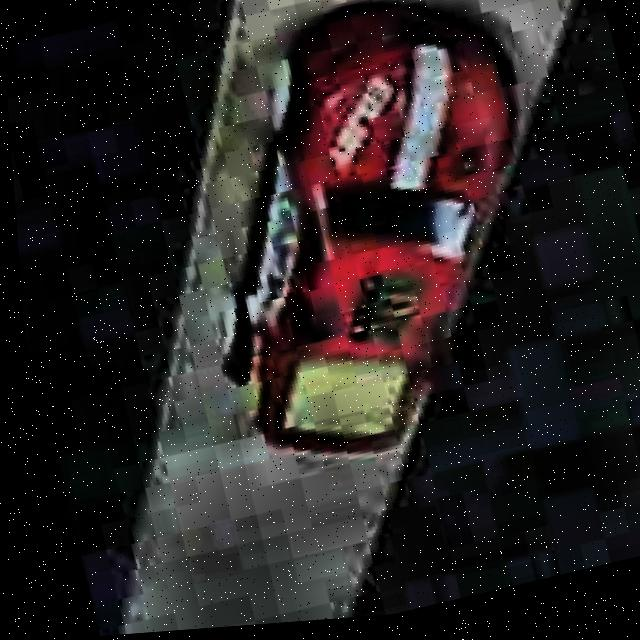car: (140, 0, 604, 497)
